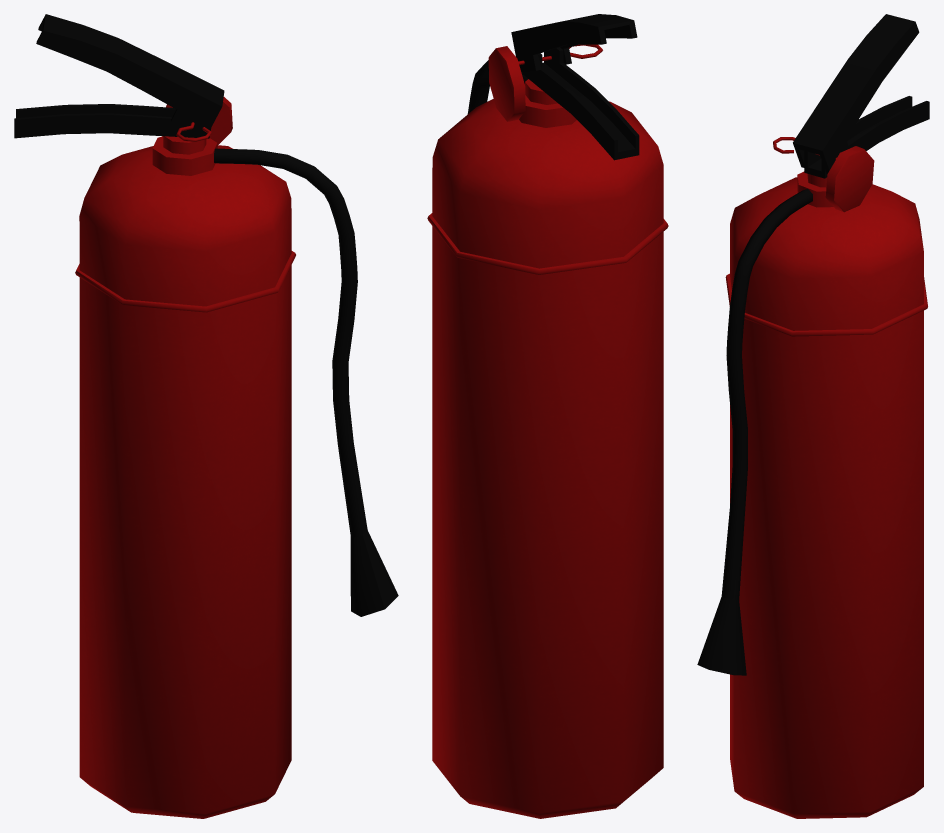
Rendered from SM_灭火器.fbx.
3 renders of one model, left to right at view 1: azimuth 30°, elevation 25°; view 2: azimuth 150°, elevation 25°; view 3: azimuth 270°, elevation 25°, orthographic. The views are drawn at different scales.
Visible parts, largest first — view 1: SM_灭火器; view 2: SM_灭火器; view 3: SM_灭火器.
Part boxes in pixels (x1=…): SM_灭火器: x1=14, y1=14, x2=398, y2=818; SM_灭火器: x1=427, y1=14, x2=668, y2=818; SM_灭火器: x1=697, y1=14, x2=929, y2=818.
Size of the model in its own units: 0.1718 by 0.4406 by 0.1287.
